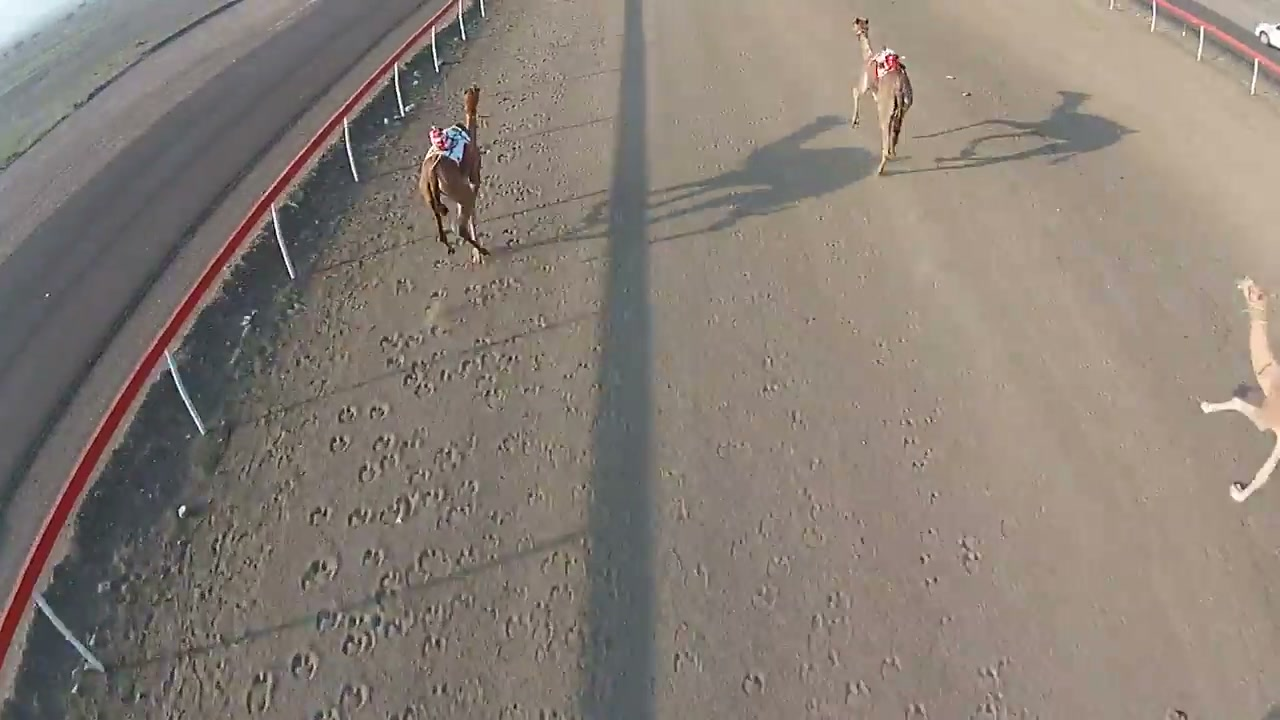animal_footprint: (244, 287, 464, 706)
